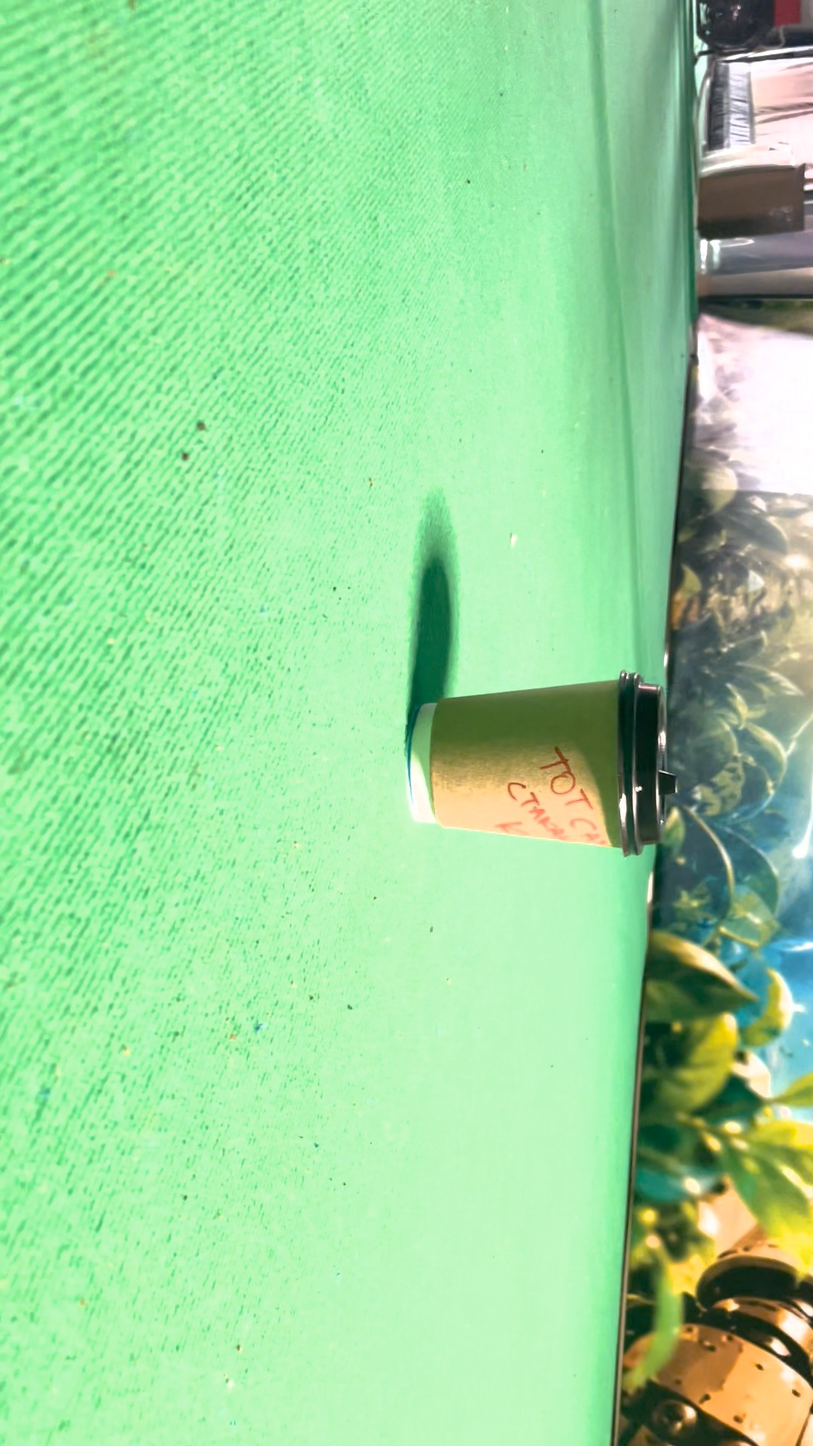cup: (409, 524, 488, 923)
